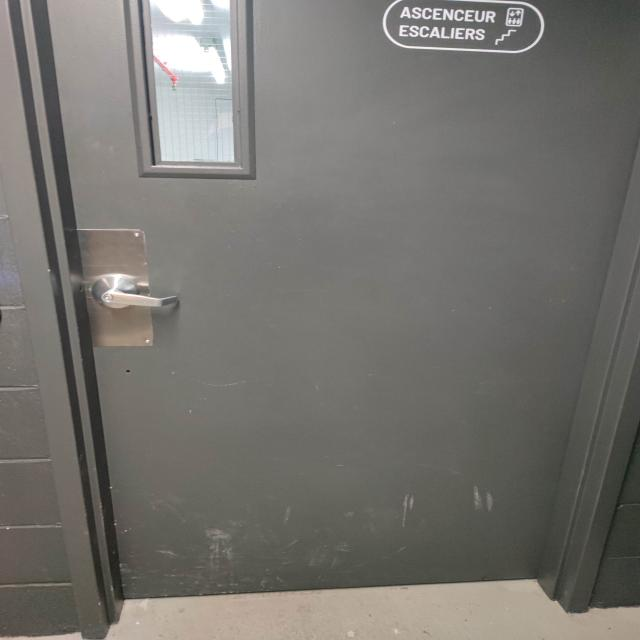door-handle: (92, 274, 178, 309)
